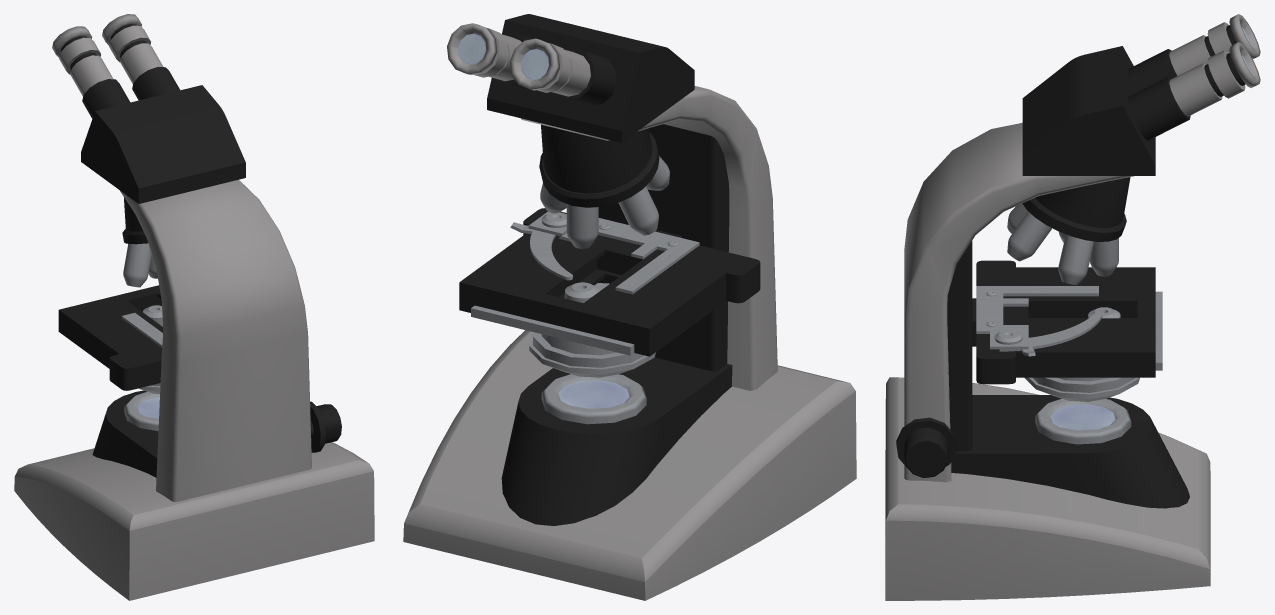
Rendered from Microscope.fbx.
3 views of the same model, side by side, from view 1: azimuth 30°, elevation 25°; view 2: azimuth 150°, elevation 25°; view 3: azimuth 270°, elevation 25° (orthographic). The views are drawn at different scales.
Parts seen in each view (by area): view 1: Microscope2; view 2: Microscope2; view 3: Microscope2.
Boxes of the visible parts, left/top/right/bottom form: Microscope2: left=14, top=14, right=374, bottom=600; Microscope2: left=403, top=14, right=856, bottom=600; Microscope2: left=885, top=14, right=1260, bottom=600.
Size of the model in its own units: 25.84 by 44.05 by 29.8.
